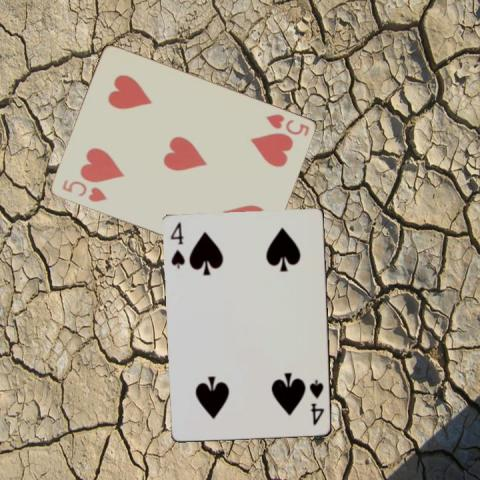4s: (168, 220, 187, 271), (307, 377, 325, 427)
5h: (58, 177, 108, 204), (262, 111, 311, 138)
